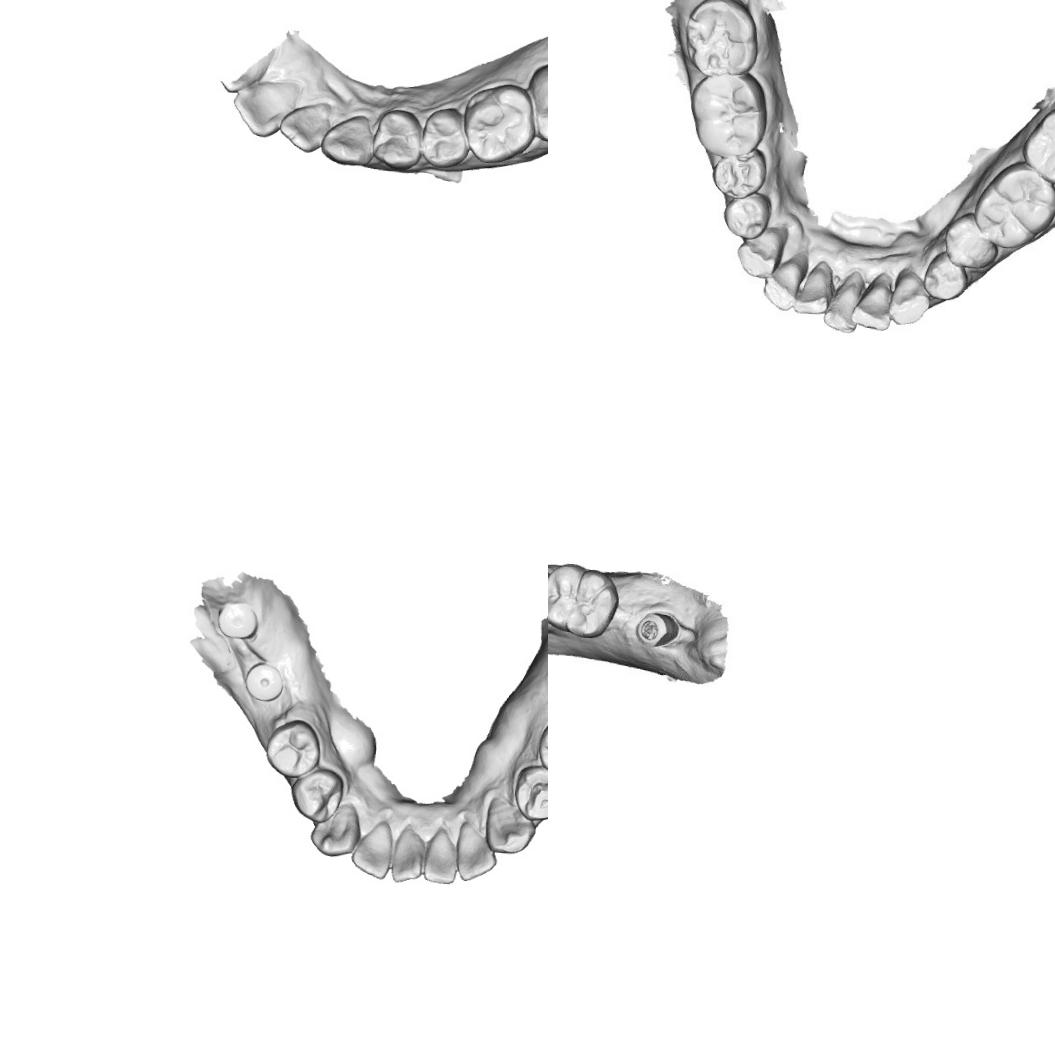canine: (482, 794, 539, 856), (318, 110, 376, 168), (307, 798, 362, 858), (733, 226, 783, 281), (890, 264, 930, 332)
implant: (632, 604, 682, 650), (214, 599, 260, 640), (242, 660, 284, 702)
incisor: (230, 76, 304, 140), (278, 99, 336, 155), (454, 818, 500, 882), (349, 817, 394, 880), (389, 822, 426, 884), (826, 274, 864, 330), (422, 826, 458, 884), (855, 274, 894, 325), (765, 256, 804, 306), (796, 259, 830, 310)
molar: (460, 81, 536, 166), (548, 557, 622, 640), (688, 76, 765, 154), (976, 163, 1055, 236), (686, 0, 757, 71), (1026, 103, 1055, 184), (526, 57, 548, 145)
premolar: (263, 717, 322, 779), (370, 107, 427, 171), (419, 104, 473, 168), (288, 765, 346, 824), (944, 218, 994, 266), (512, 762, 548, 821), (920, 256, 966, 302), (713, 152, 758, 196), (722, 196, 770, 234), (535, 715, 548, 780)
